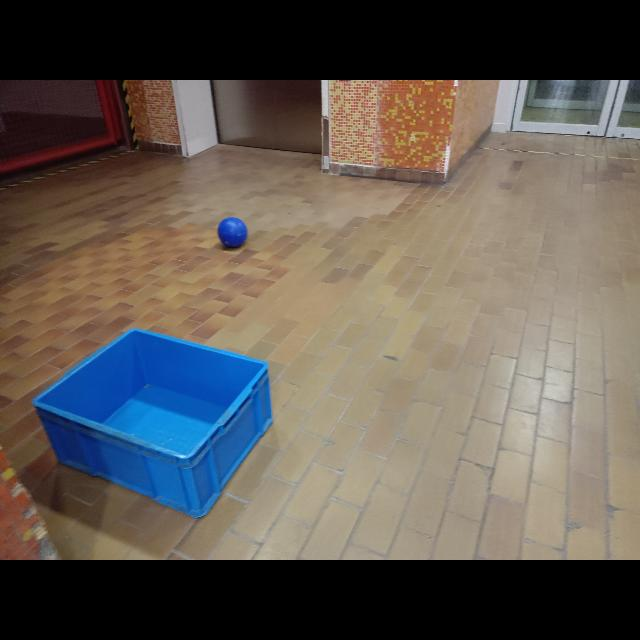B: (216, 214, 252, 248)
